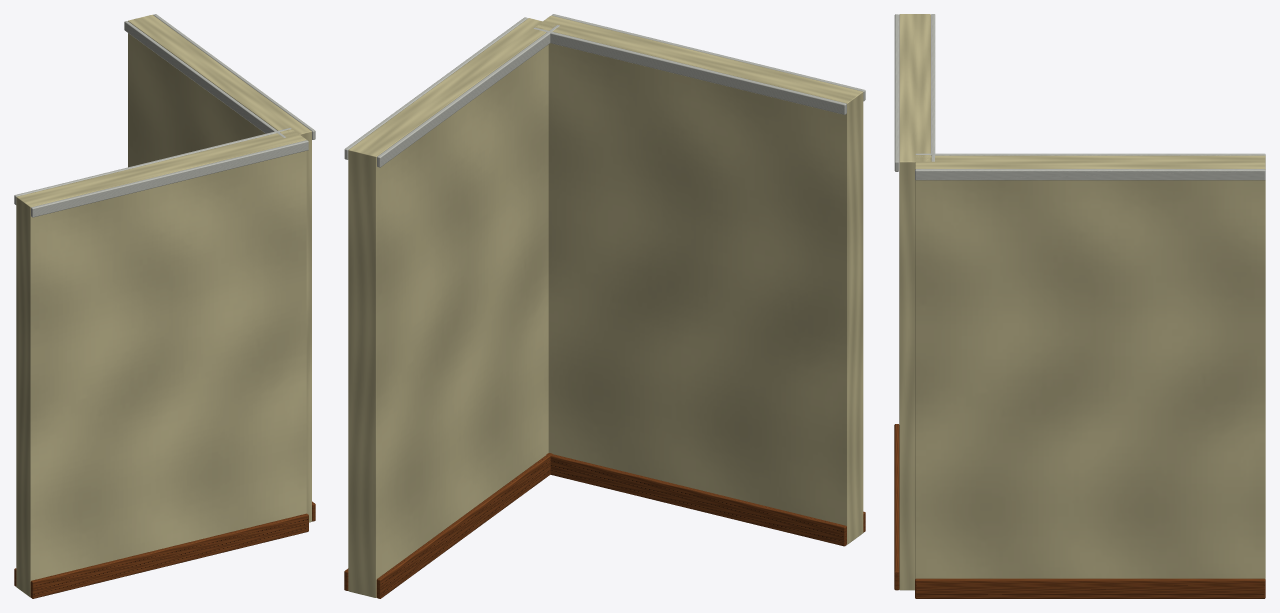
Rendered from three-d-liminal-spaces-kit-liminal-spaces-kit-wall-corner-40f45593.glb.
3 views of the same model, side by side, from view 1: azimuth 30°, elevation 25°; view 2: azimuth 150°, elevation 25°; view 3: azimuth 270°, elevation 25° (orthographic). The views are drawn at different scales.
Visible parts, largest first — view 1: wall-corner; view 2: wall-corner; view 3: wall-corner.
Boxes of the visible parts, bbox=[...] form: wall-corner: bbox=[14, 14, 315, 598]; wall-corner: bbox=[344, 14, 865, 598]; wall-corner: bbox=[894, 14, 1265, 598].
Bounding box in the file's own units: 2.12 × 2.7 × 2.12.
Materials: 3 (3 with a texture image).
